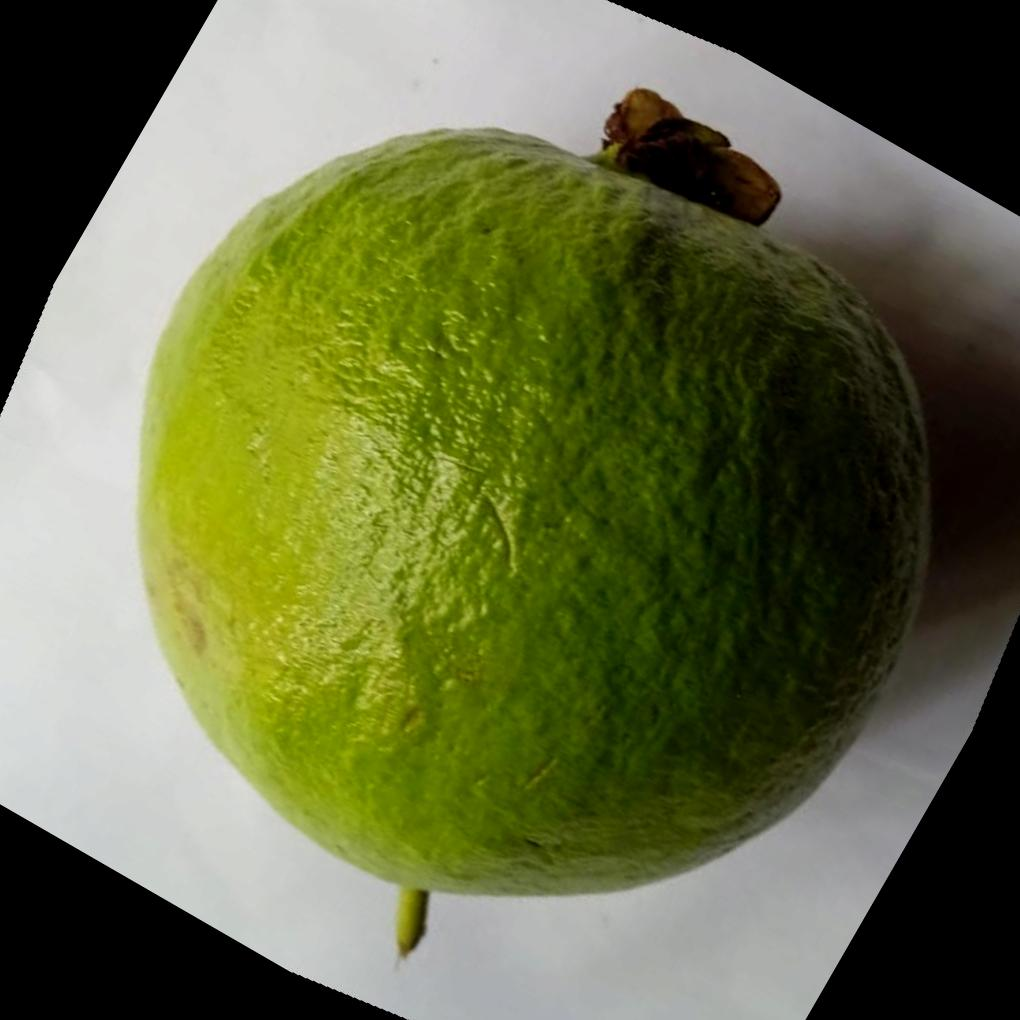FreshGuava: (133, 113, 937, 949)
